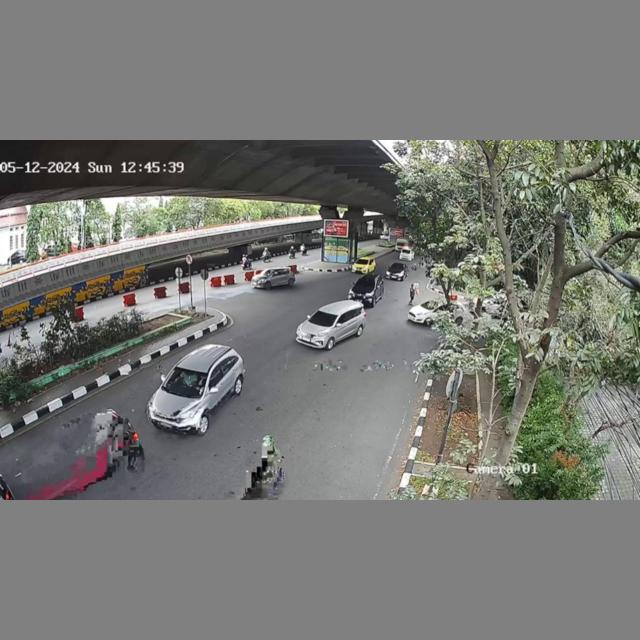windshield: (166, 367, 207, 400), (307, 309, 339, 328)
